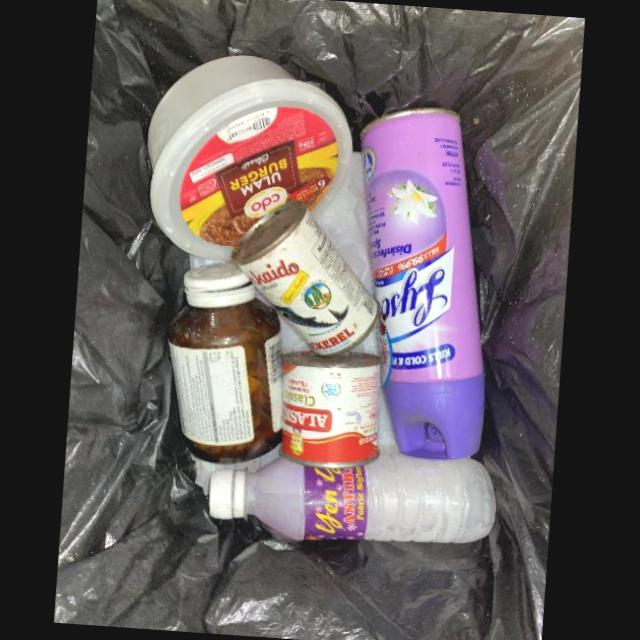chai_nhua: (207, 452, 496, 543)
chai_thuy_tinh: (168, 261, 283, 464)
hop_nhua: (147, 54, 353, 260)
nhom: (360, 105, 484, 459), (230, 199, 379, 355), (280, 349, 383, 467)
